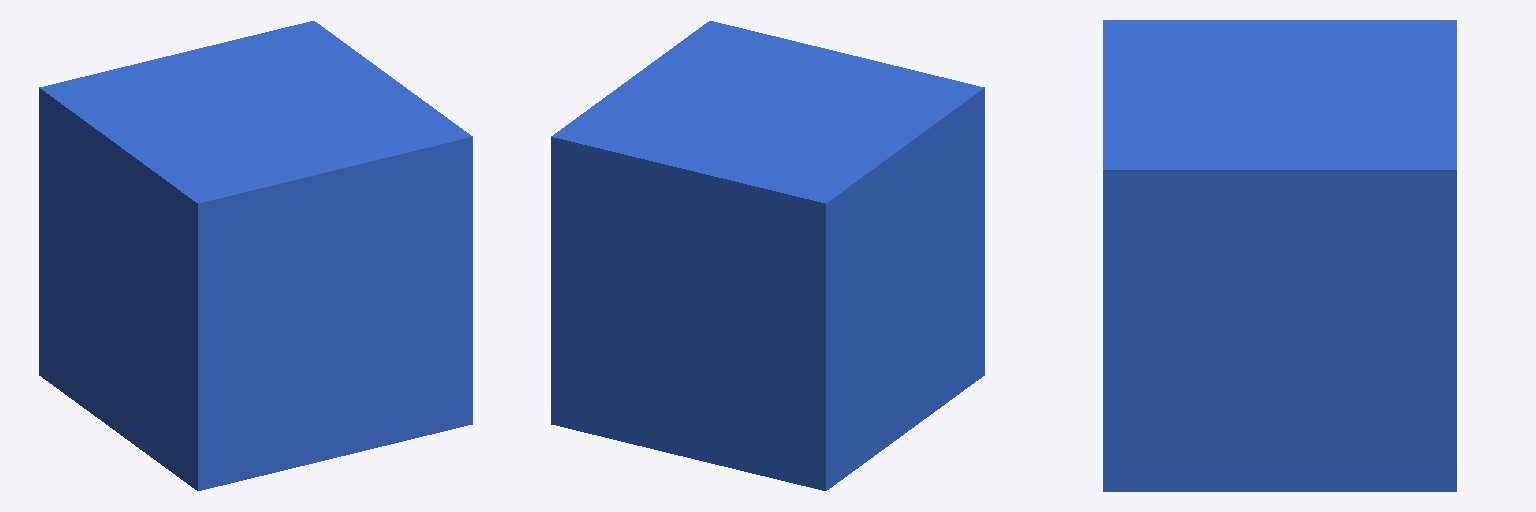
robot.urdf — shadow_demo:
<?xml version="1.0"?>
<!-- Deterministic shadow-demo scene: a box elevated a metre above the ground so a
     directional key light casts a clear shadow onto the solid grid floor. Used by
     the scene3d_mesh_viewer shadow flag for A/B screenshots. -->
<robot name="shadow_demo">
  <link name="base_link"/>
  <link name="box">
    <visual>
      <origin xyz="0 0 1.0" rpy="0 0 0"/>
      <geometry>
        <box size="0.6 0.6 0.6"/>
      </geometry>
      <material name="blue">
        <color rgba="0.30 0.50 0.90 1.0"/>
      </material>
    </visual>
  </link>
  <joint name="base_to_box" type="fixed">
    <parent link="base_link"/>
    <child link="box"/>
    <origin xyz="0 0 0" rpy="0 0 0"/>
  </joint>
</robot>

--- Facts derived from the render (not from the file) ---
Views: 3 orthographic renders of the robot side by side, from view 1: azimuth 30°, elevation 25°; view 2: azimuth 150°, elevation 25°; view 3: azimuth 270°, elevation 25°.
Robot: shadow_demo — 2 links, 1 joints (1 fixed); root link base_link; default pose: all joints at 0.
Links seen in each view (by area): view 1: box; view 2: box; view 3: box.
Link boxes in pixels (<box>): box: <box>39,21,472,490</box>; box: <box>551,21,984,490</box>; box: <box>1103,20,1456,491</box>.
Size in the robot's own frame: 0.6 by 0.6 by 0.6 metres.
Geometry: primitives only (box / cylinder / sphere), no mesh files.
